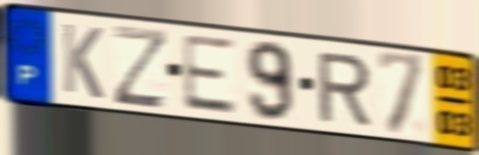7: (376, 48, 428, 139)
9: (243, 38, 297, 124)
E: (179, 31, 239, 117)
K: (59, 20, 106, 103)
R: (315, 50, 373, 127)
Z: (111, 22, 171, 111)
